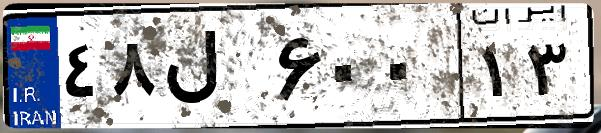0: (385, 28, 445, 110), (330, 28, 385, 110)
1: (475, 38, 525, 113)
3: (525, 38, 570, 115)
4: (57, 26, 110, 100)
6: (270, 28, 330, 110)
8: (110, 28, 158, 98)
ل: (158, 20, 270, 120)
